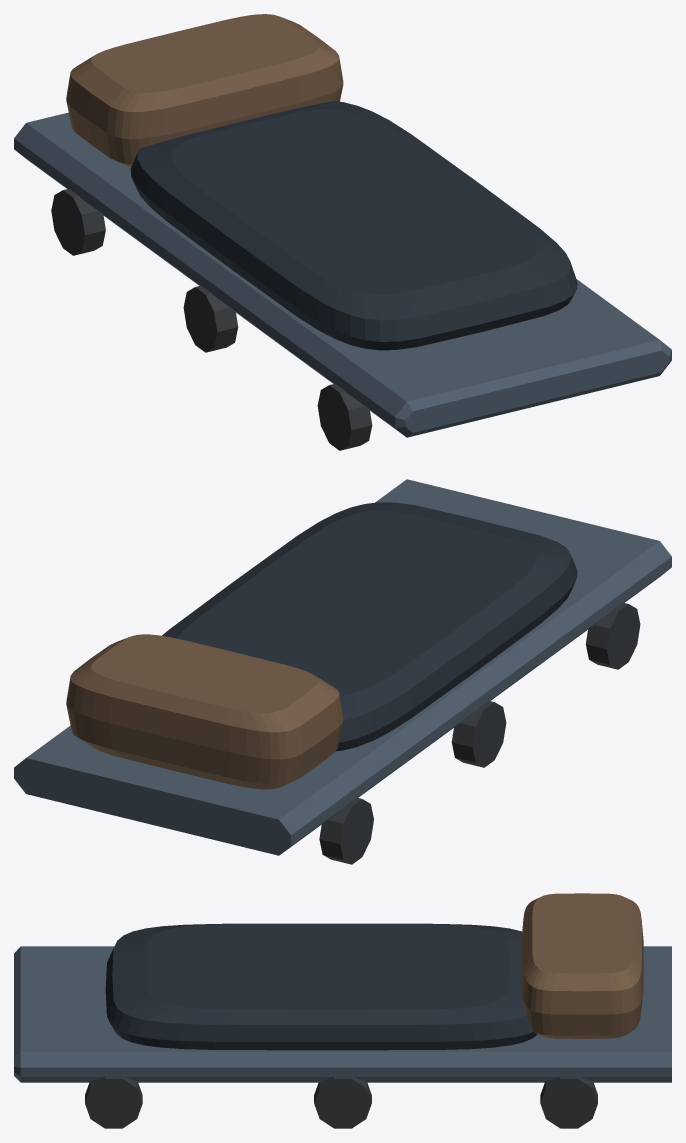
The model's file is T-09_creeper.glb.
3 renders of one model, top to bottom at view 1: azimuth 30°, elevation 25°; view 2: azimuth 150°, elevation 25°; view 3: azimuth 270°, elevation 25°, orthographic. The views are drawn at different scales.
Visible parts, largest first — view 1: T-09_creeper; view 2: T-09_creeper; view 3: T-09_creeper.
Part boxes in pixels (bbox=[...]): T-09_creeper: bbox=[14, 14, 671, 450]; T-09_creeper: bbox=[14, 479, 671, 864]; T-09_creeper: bbox=[14, 893, 671, 1128].
Bounding box in the file's own units: 0.386 × 0.2011 × 0.89.
